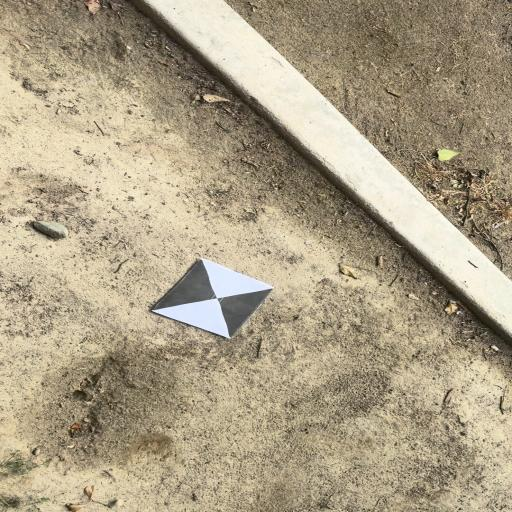target: (150, 259, 276, 337)
